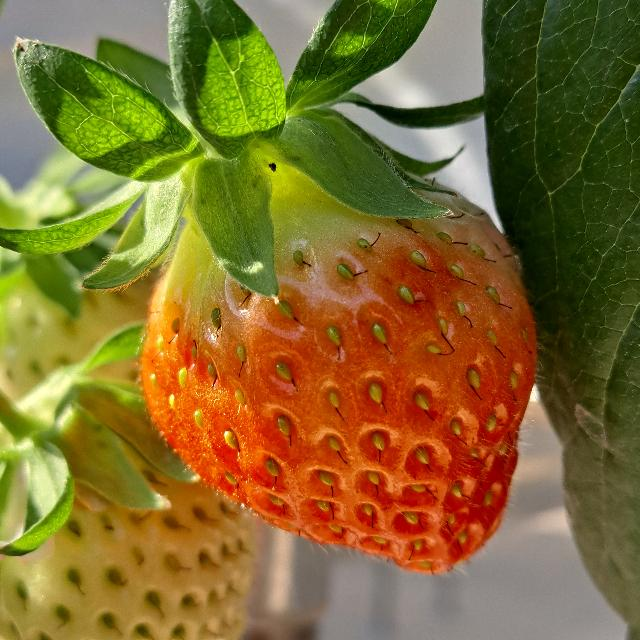Health_100: (141, 172, 537, 574)
